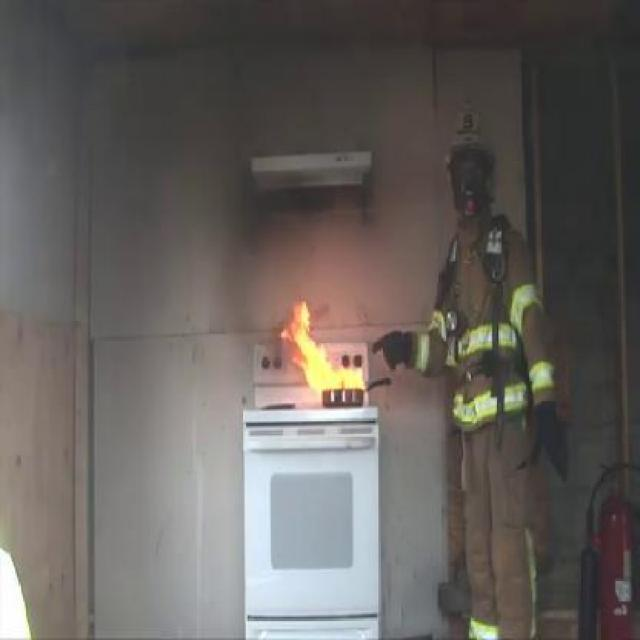fire: (286, 299, 366, 393)
